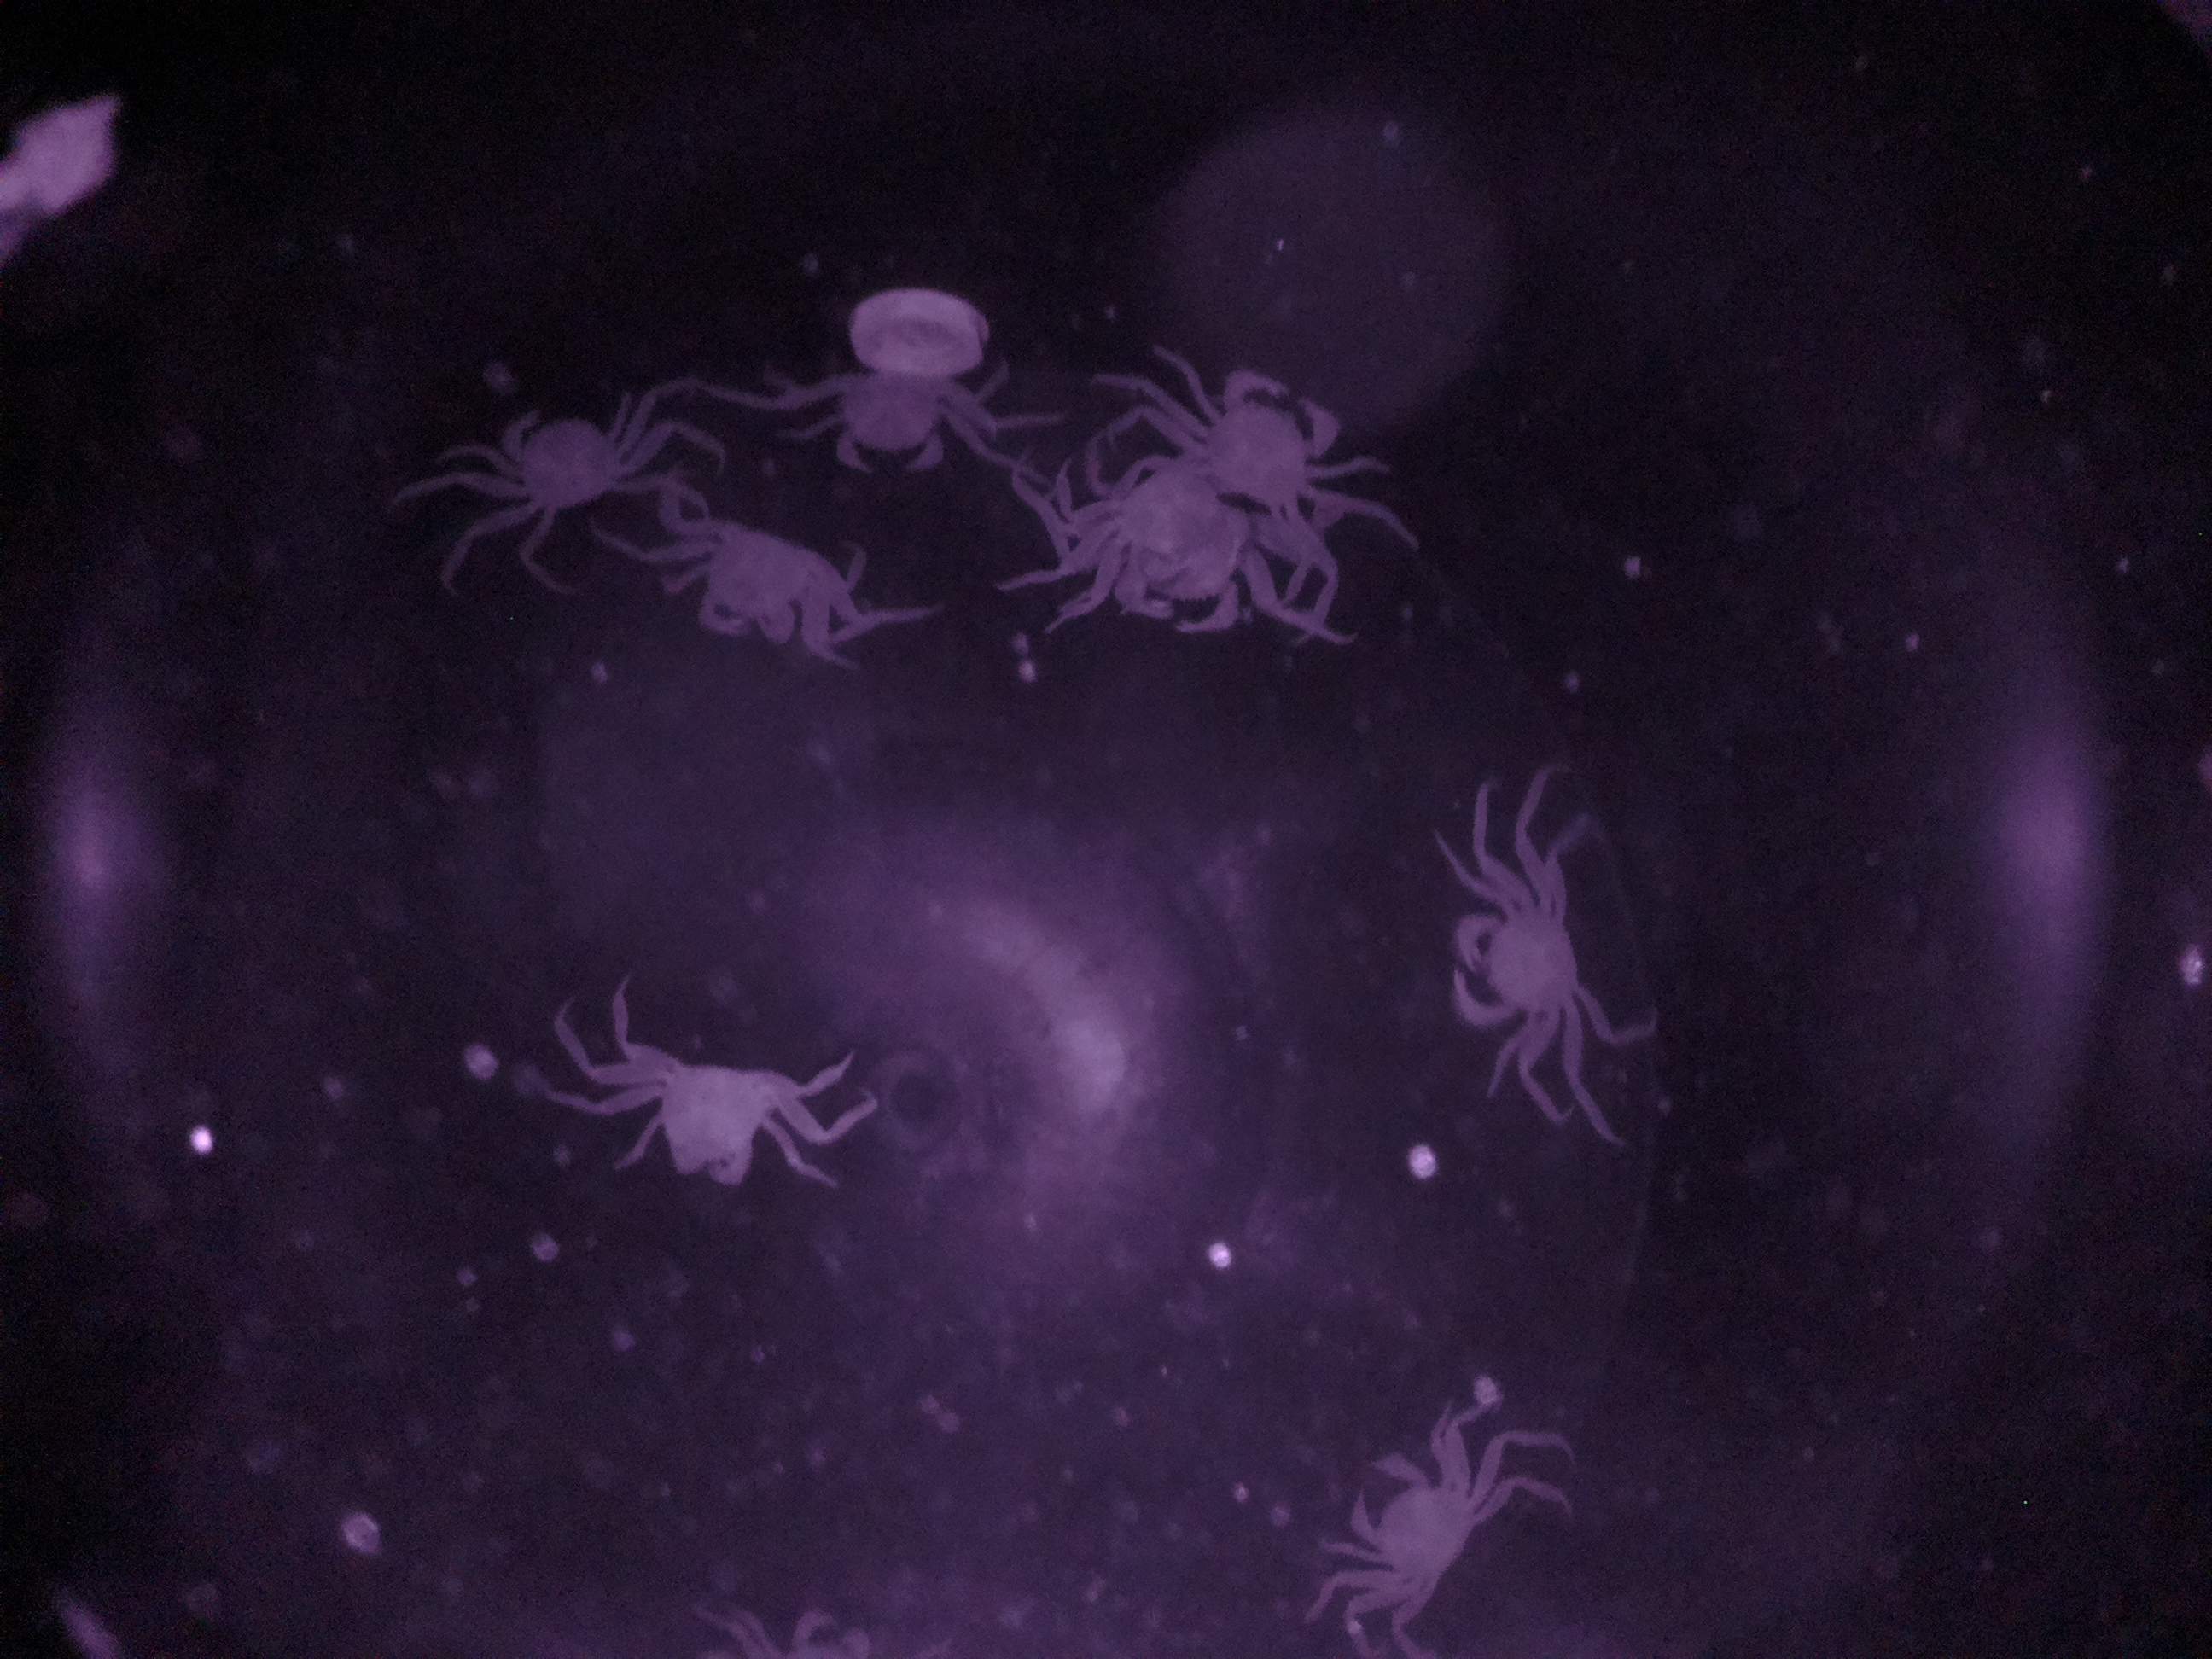Crab: (1315, 1415, 1508, 1621), (1435, 850, 1615, 1070), (608, 1035, 815, 1199), (481, 382, 674, 538)
